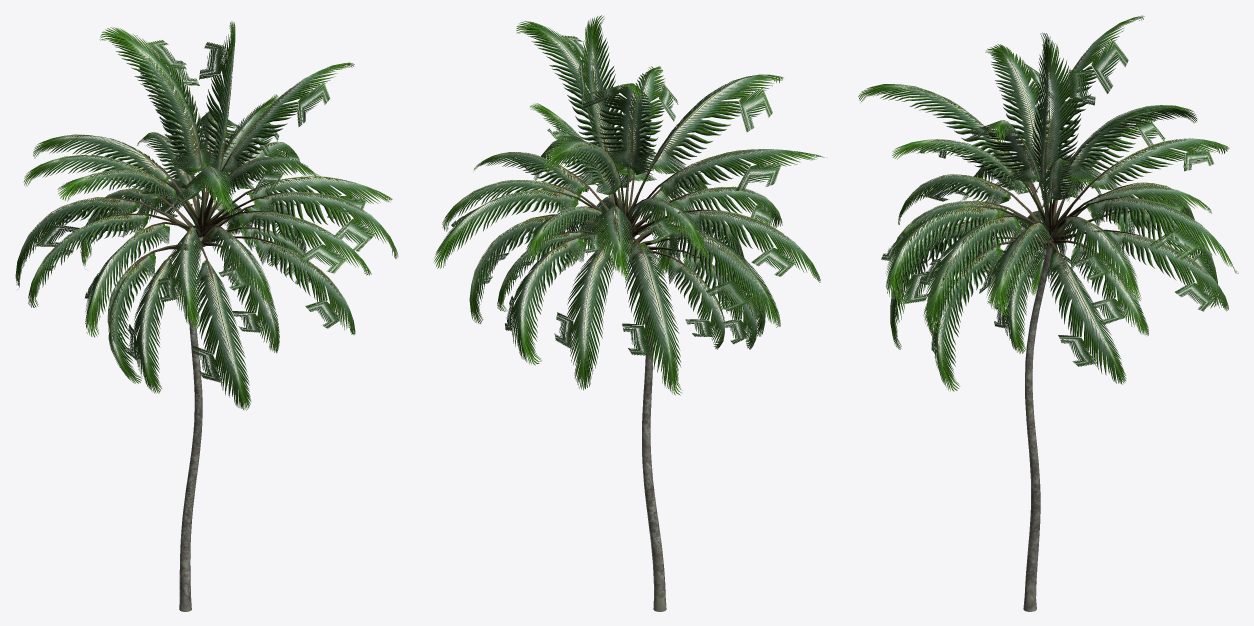
The model's file is palm-b.glb.
3 renders of one model, left to right at view 1: azimuth 30°, elevation 25°; view 2: azimuth 150°, elevation 25°; view 3: azimuth 270°, elevation 25°, orthographic. The views are drawn at different scales.
Visible parts, largest first — view 1: palm-b; view 2: palm-b; view 3: palm-b.
Part boxes in pixels (<box>): palm-b: <box>15,21,398,611</box>; palm-b: <box>433,15,824,611</box>; palm-b: <box>858,15,1238,611</box>.
Size of the model in its own units: 3.49 by 5.5 by 3.15.
2 materials, 2 textured.
